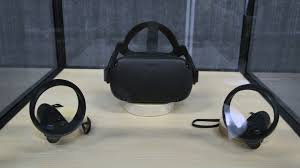oculus: (108, 50, 201, 106)
